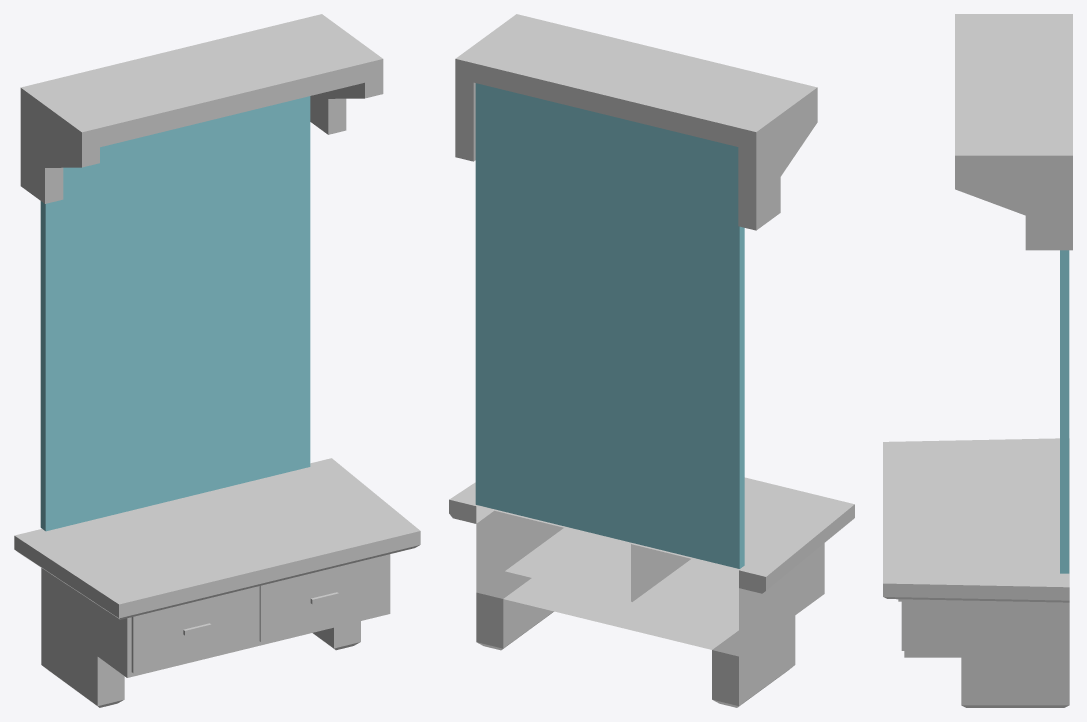
Rendered from Barbershop Setup 01.fbx.
3 renders of one model, left to right at view 1: azimuth 30°, elevation 25°; view 2: azimuth 150°, elevation 25°; view 3: azimuth 270°, elevation 25°, orthographic. The views are drawn at different scales.
Visible parts, largest first — view 1: Barber Setup; view 2: Barber Setup; view 3: Barber Setup.
Boxes of the visible parts, x1=… form: Barber Setup: x1=14, y1=14, x2=420, y2=707; Barber Setup: x1=449, y1=14, x2=854, y2=707; Barber Setup: x1=883, y1=14, x2=1072, y2=707.
Size of the model in its own units: 241 by 424 by 129.
